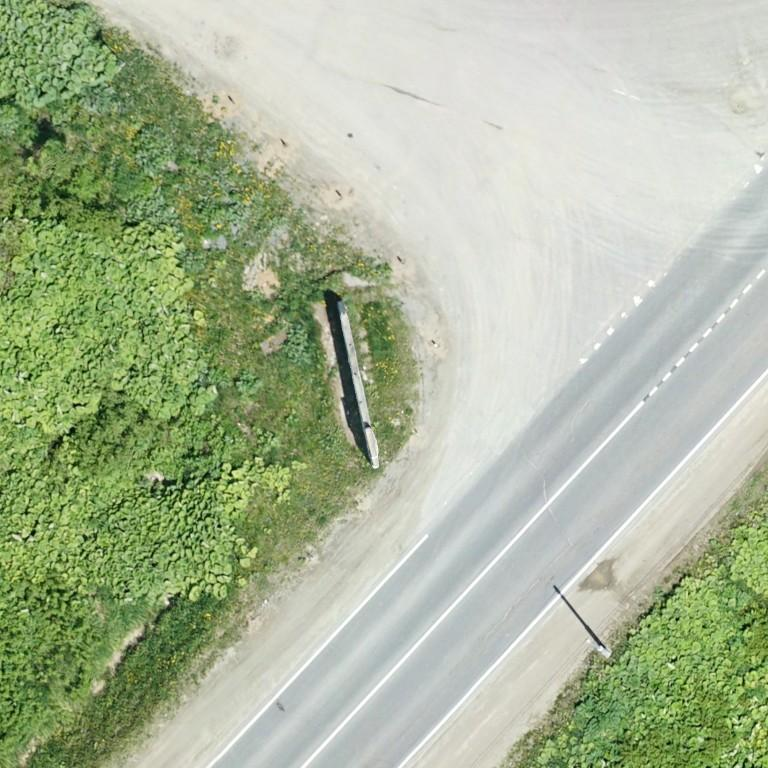hogweed: (575, 691, 625, 740), (236, 370, 261, 394)
